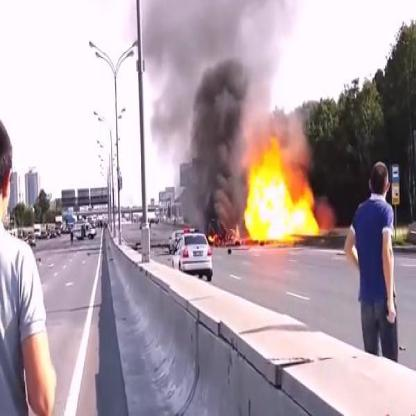fire: (242, 138, 322, 242), (208, 229, 229, 246)
